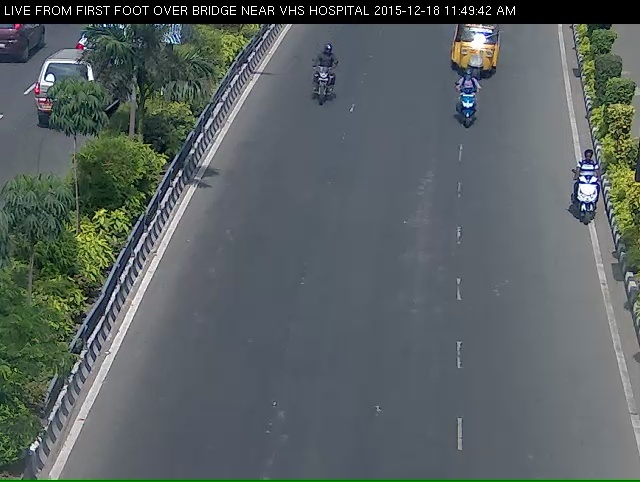Auto: (446, 25, 505, 89)
Person: (568, 156, 605, 233), (450, 80, 481, 138), (307, 59, 336, 119)
